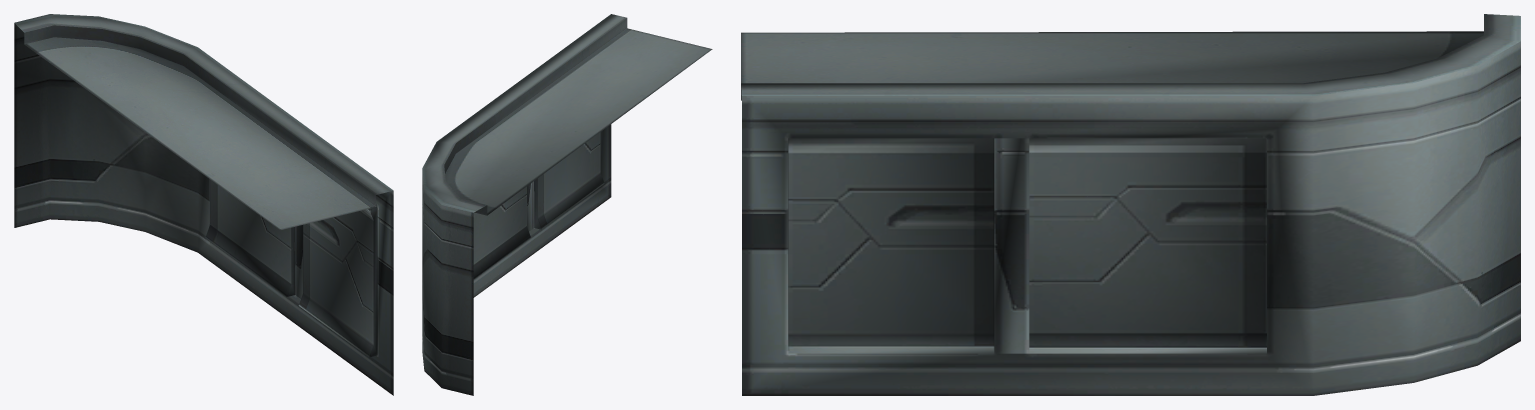
File: chest2.glb
The picture shows the model from 3 angles, left to right: view 1: azimuth 30°, elevation 25°; view 2: azimuth 150°, elevation 25°; view 3: azimuth 270°, elevation 25°; orthographic projection. The views are drawn at different scales.
Parts seen in each view (by area): view 1: Box05; view 2: Box05; view 3: Box05.
Boxes of the visible parts, bbox=[...] form: Box05: bbox=[14, 14, 393, 395]; Box05: bbox=[422, 14, 712, 395]; Box05: bbox=[741, 14, 1520, 395].
Size of the model in its own units: 22.58 by 38.47 by 90.66.
1 material, 1 textured.
